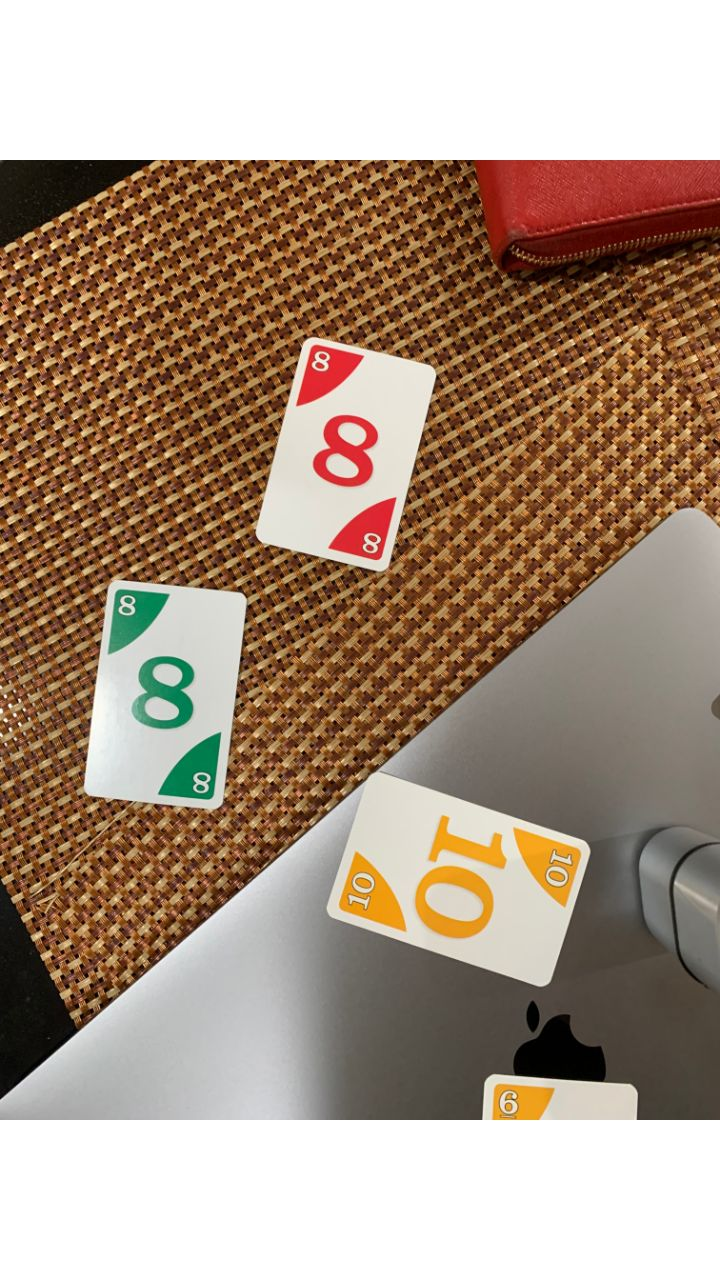eight: (253, 337, 438, 574), (80, 585, 248, 816)
